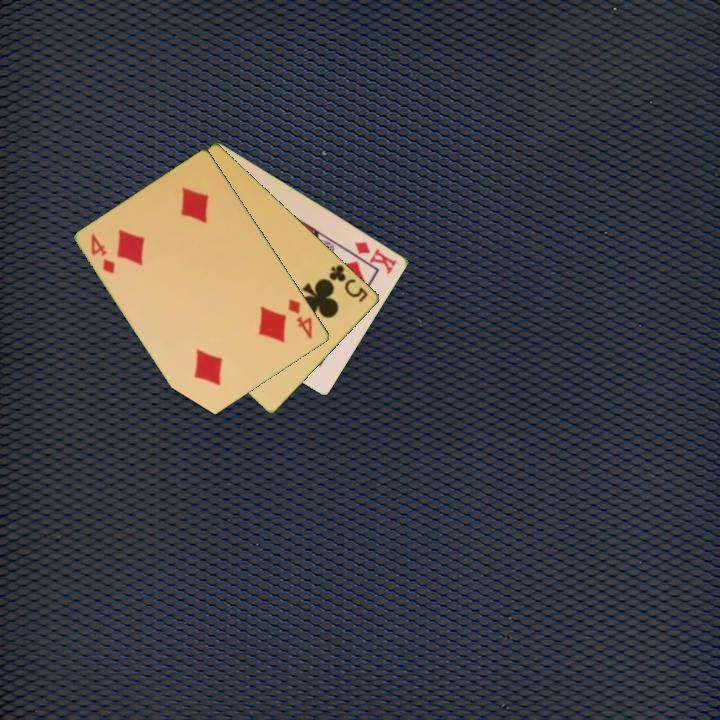4d: (285, 295, 316, 342), (87, 230, 118, 277)
5c: (326, 261, 371, 305)
Kd: (351, 238, 400, 277)
